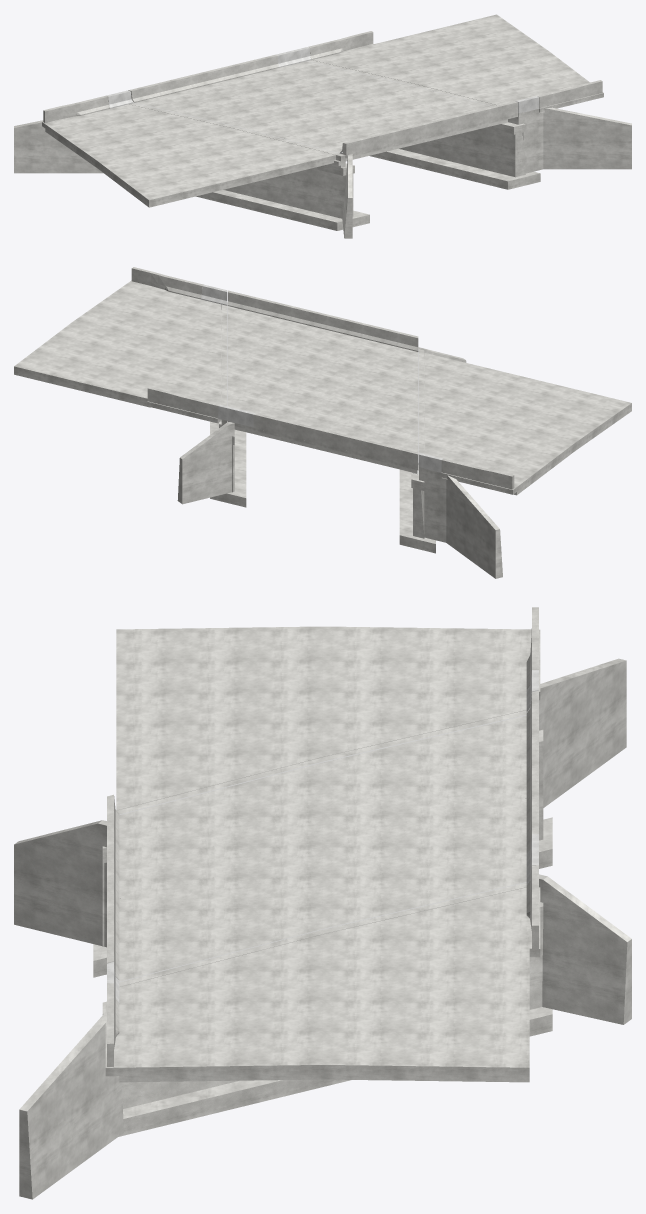
File: model_render.glb
The picture shows the model from 3 angles, top to bottom: view 1: azimuth 30°, elevation 25°; view 2: azimuth 150°, elevation 25°; view 3: azimuth 270°, elevation 25°; orthographic projection. The views are drawn at different scales.
Parts seen in each view (by area): view 1: overlay, approach_-1, approach_1, wing_1_1, stem_2, stem_1, wing_0_-1, retained_rail_1, footing_2, retained_rail_-1, footing_1, approach_base_-1 (+10 smaller); view 2: overlay, approach_1, approach_-1, wing_0_-1, wing_1_-1, retained_rail_1, retained_rail_-1, footing_1, footing_2, TFC_transition_1_1, TFC_transition_-1_-1, TFC_transition_1_-1 (+8 smaller); view 3: overlay, approach_1, approach_-1, wing_1_1, wing_1_-1, wing_0_1, wing_0_-1, footing_2, approach_base_1, stem_2, mudwall_2, retained_rail_1 (+5 smaller).
Boxes of the visible parts, x1,y1,x2,y2 form: overlay: (135,61,491,153); approach_-1: (45,104,335,204); approach_1: (312,14,589,105); wing_1_1: (522,107,631,173); stem_2: (399,127,525,177); stem_1: (223,168,353,218); wing_0_-1: (14,120,103,173); retained_rail_1: (340,101,517,155); footing_2: (369,148,540,189); retained_rail_-1: (128,54,279,102); footing_1: (196,190,369,230); approach_base_-1: (45,129,333,207); overlay: (227,306,418,452); approach_1: (14,282,221,404); approach_-1: (424,353,631,491); wing_0_-1: (424,469,502,578); wing_1_-1: (177,422,234,504); retained_rail_1: (227,290,418,351); retained_rail_-1: (253,413,418,467); footing_1: (399,469,435,553); footing_2: (210,421,246,507); TFC_transition_1_1: (131,267,203,299); TFC_transition_-1_-1: (441,459,514,489); TFC_transition_1_-1: (147,387,219,418); overlay: (119,715,526,981); approach_1: (119,887,529,1075); approach_-1: (116,626,526,810); wing_1_1: (19,1012,123,1199); wing_1_-1: (539,874,631,1024); wing_0_1: (14,820,106,947); wing_0_-1: (539,658,626,807); footing_2: (118,1007,552,1136); approach_base_1: (119,1073,529,1082); stem_2: (121,921,543,1108); mudwall_2: (119,882,526,986); retained_rail_1: (107,794,119,979).
Bounding box in the file's own units: 35.45 × 5.97 × 20.36.
3 materials, 2 textured.
